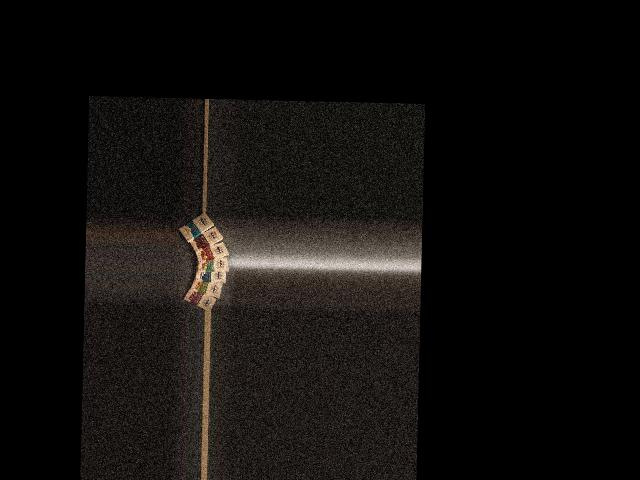chocolate: (176, 213, 215, 243)
